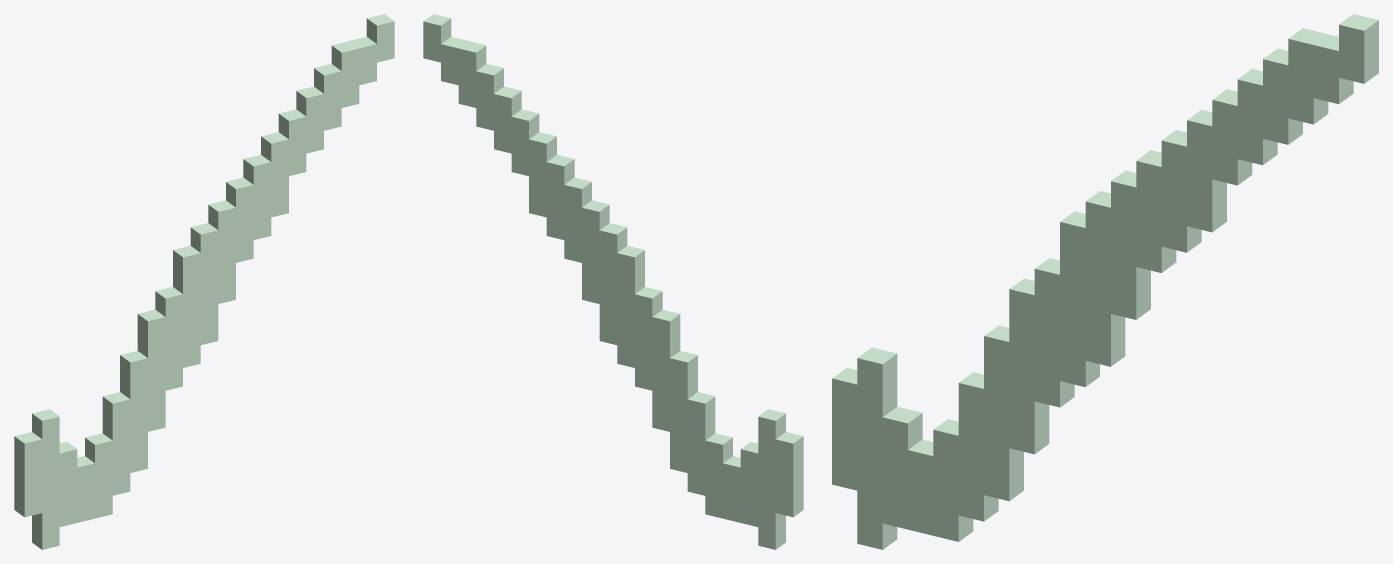
File: Fight_011_2_14_fx.obj
3 renders of one model, left to right at view 1: azimuth 30°, elevation 25°; view 2: azimuth 150°, elevation 25°; view 3: azimuth 330°, elevation 25°, orthographic. The views are drawn at different scales.
Size of the model in its own units: 2.1 by 2.4 by 0.1.
Materials: 1 (1 with a texture image).
